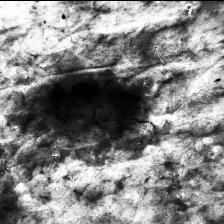Potentially Malignant Skin Tumors: (46, 68, 136, 132)
